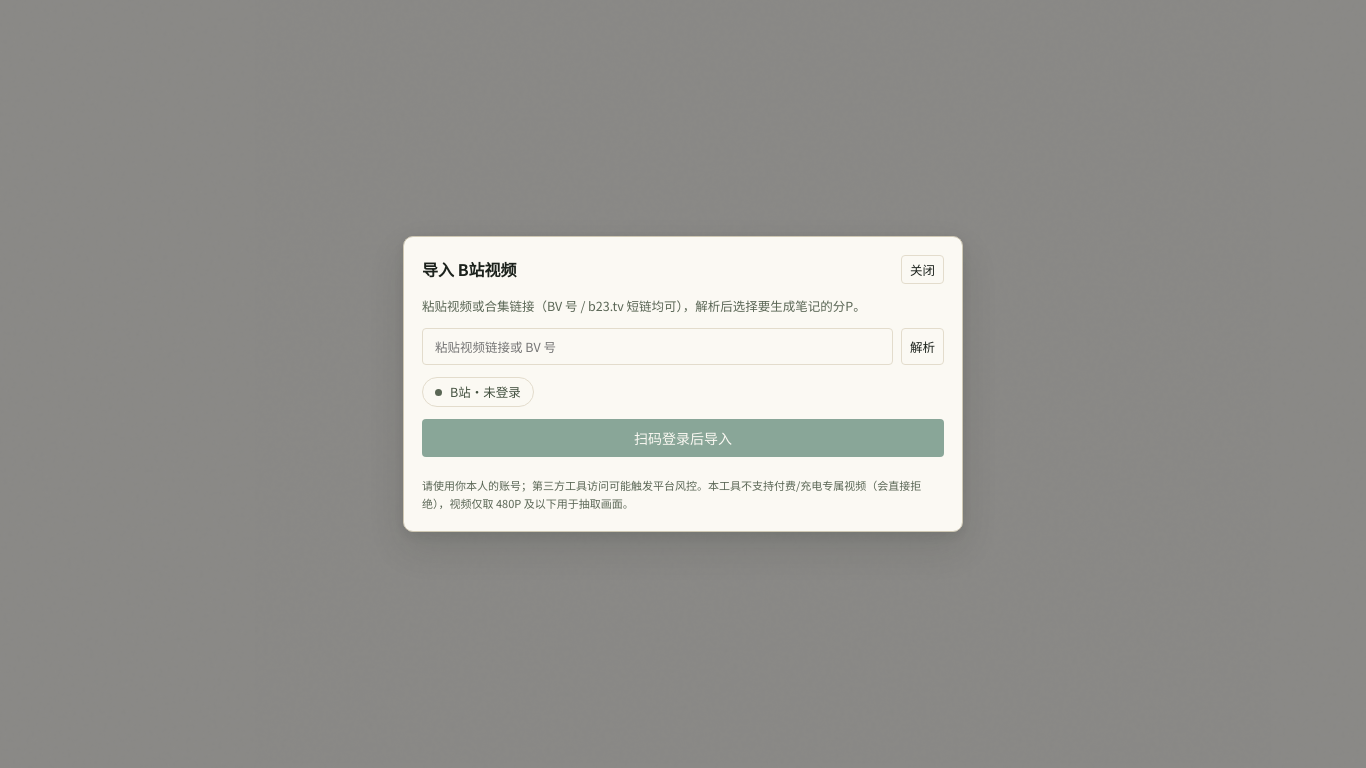
Test case: BiliImportDialog (批1 双源并列: first-class import dialog) › resolve fills the preview; every page chip is preselected when there are few
Type "https://www.bilibili.com/video/BV1GJ411x7h7" into the field with placeholder "粘贴视频链接或 BV 号" at (658, 347), box [422,328,893,365]
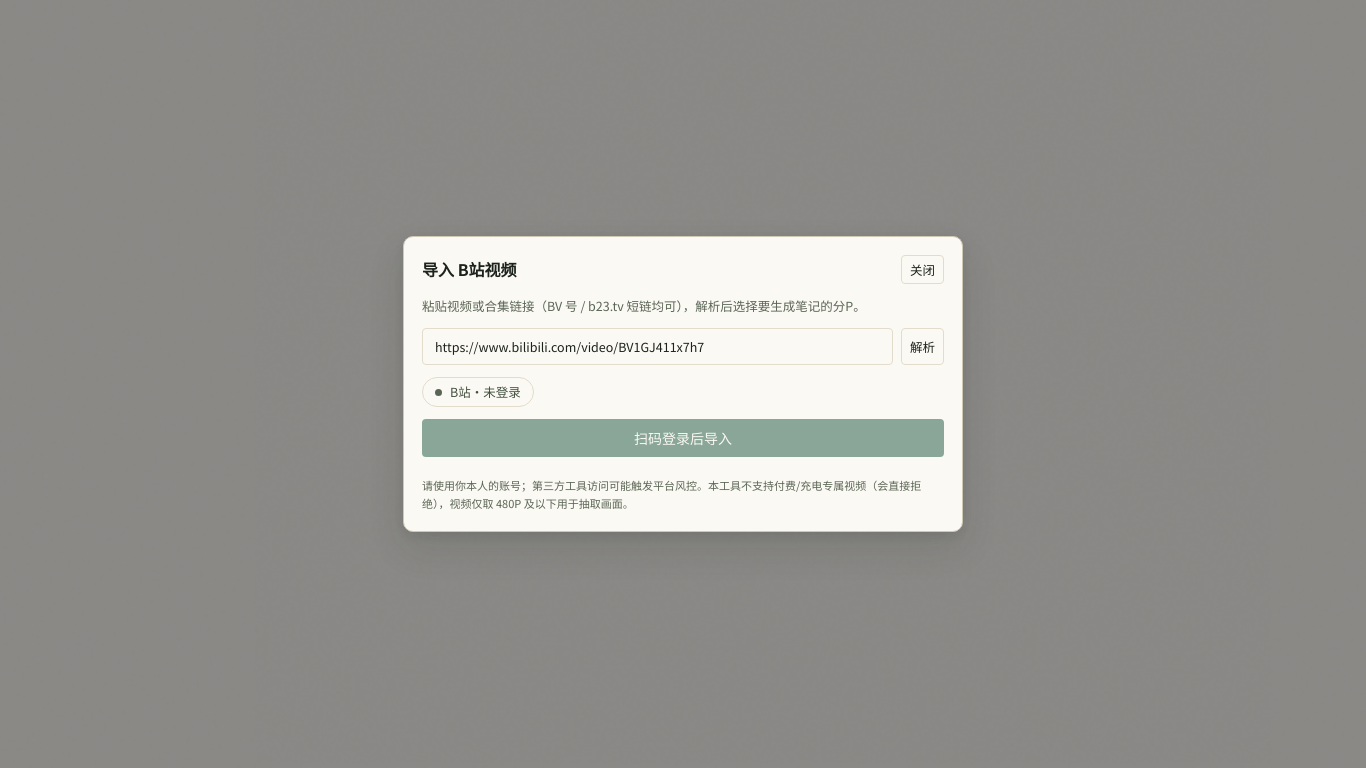
Click the button "解析" at (922, 347), box [901,328,944,365]
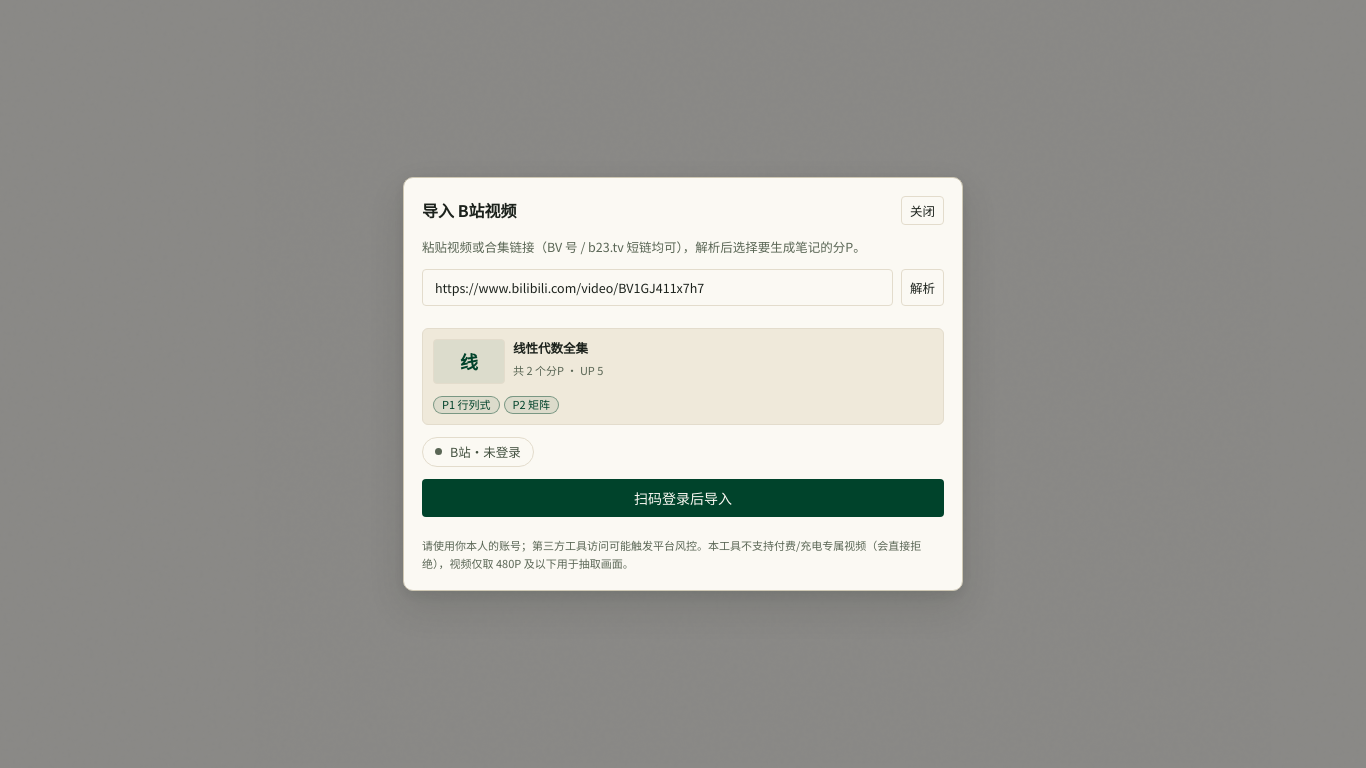
Now the number of buttons with class "bili-chip" is 2, box [433,396,500,414]; [504,396,559,414]
Now the text "共 2 个分P" is shown, box [513,362,603,379]
